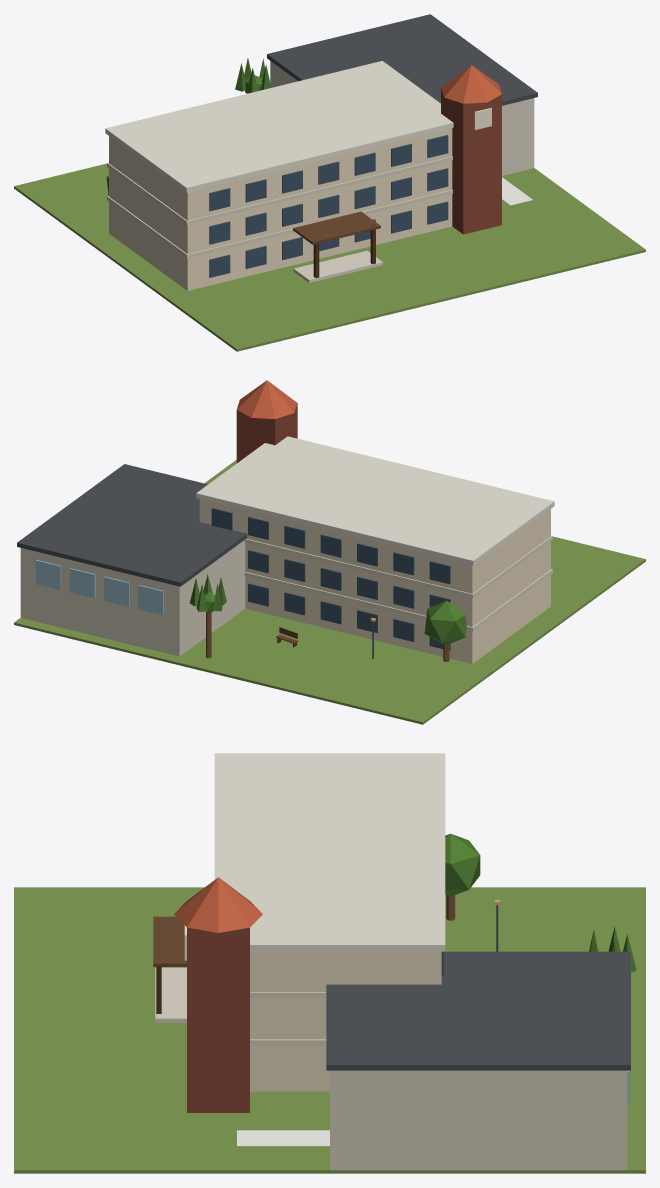
The model's file is building.school-high.glb.
The picture shows the model from 3 angles, top to bottom: view 1: azimuth 30°, elevation 25°; view 2: azimuth 150°, elevation 25°; view 3: azimuth 270°, elevation 25°; orthographic projection. The views are drawn at different scales.
Visible parts, largest first — view 1: building.school-high; view 2: building.school-high; view 3: building.school-high.
Part boxes in pixels (x1=…): building.school-high: x1=14, y1=14, x2=645, y2=351; building.school-high: x1=14, y1=380, x2=645, y2=724; building.school-high: x1=14, y1=753, x2=645, y2=1173.
Bounding box in the file's own units: 36.2 × 13.4 × 34.
